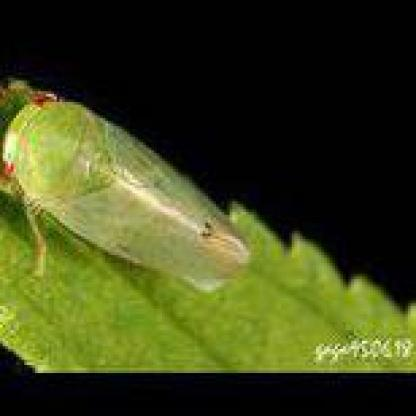Green-Leafhopper: (0, 81, 255, 295)
